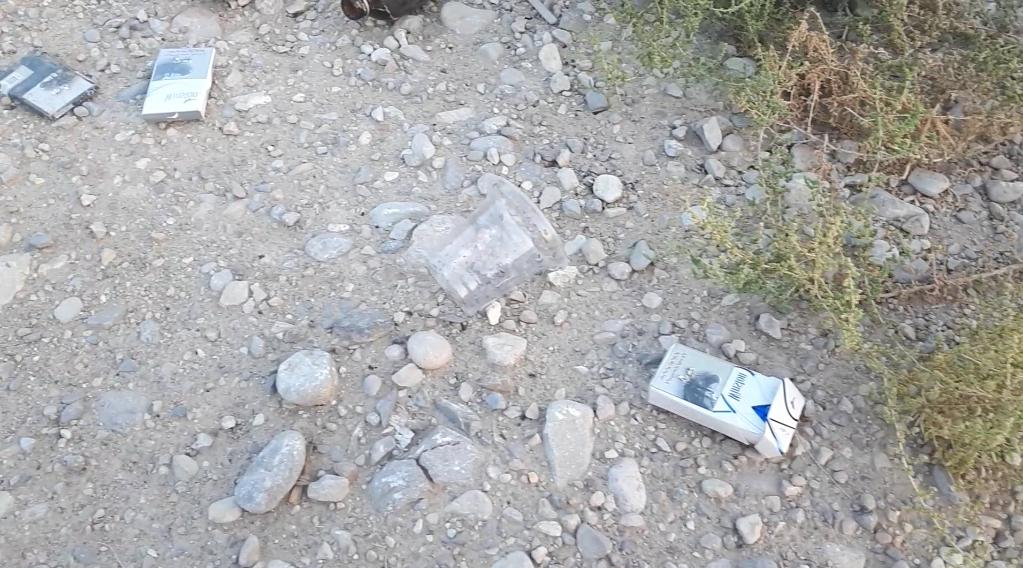garbage: (647, 312, 801, 469), (0, 36, 105, 133), (134, 37, 219, 131), (340, 0, 428, 21)
